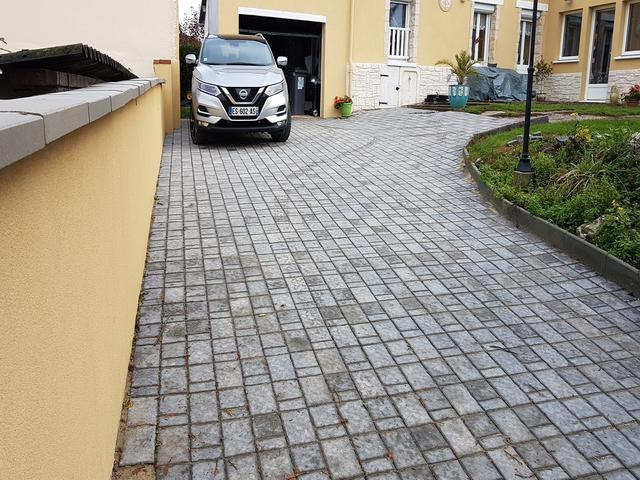Quashquai: (221, 102, 261, 122)
